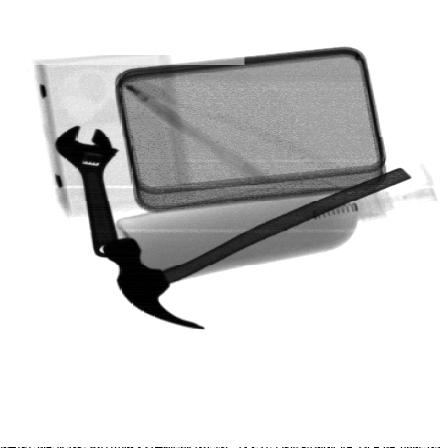Hammer: (102, 167, 413, 328)
Wrench: (54, 123, 121, 258)
